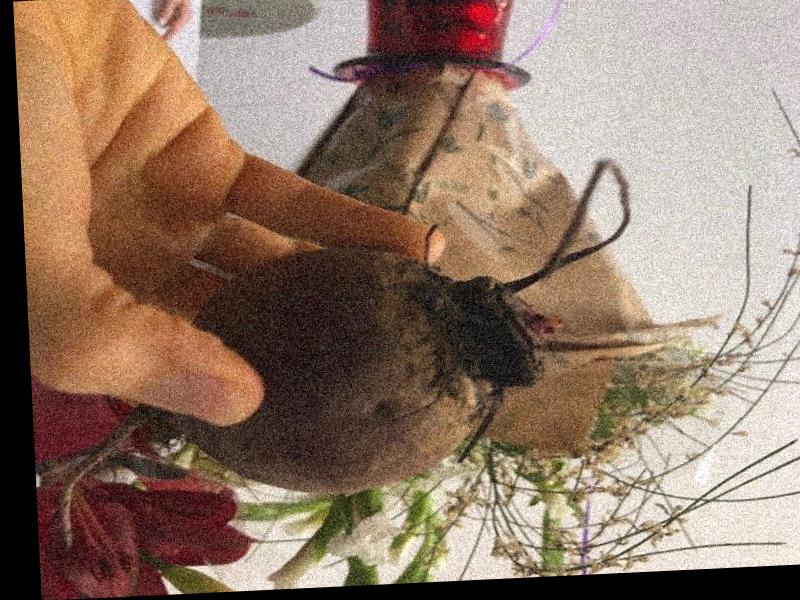Beet: (46, 159, 646, 544)
